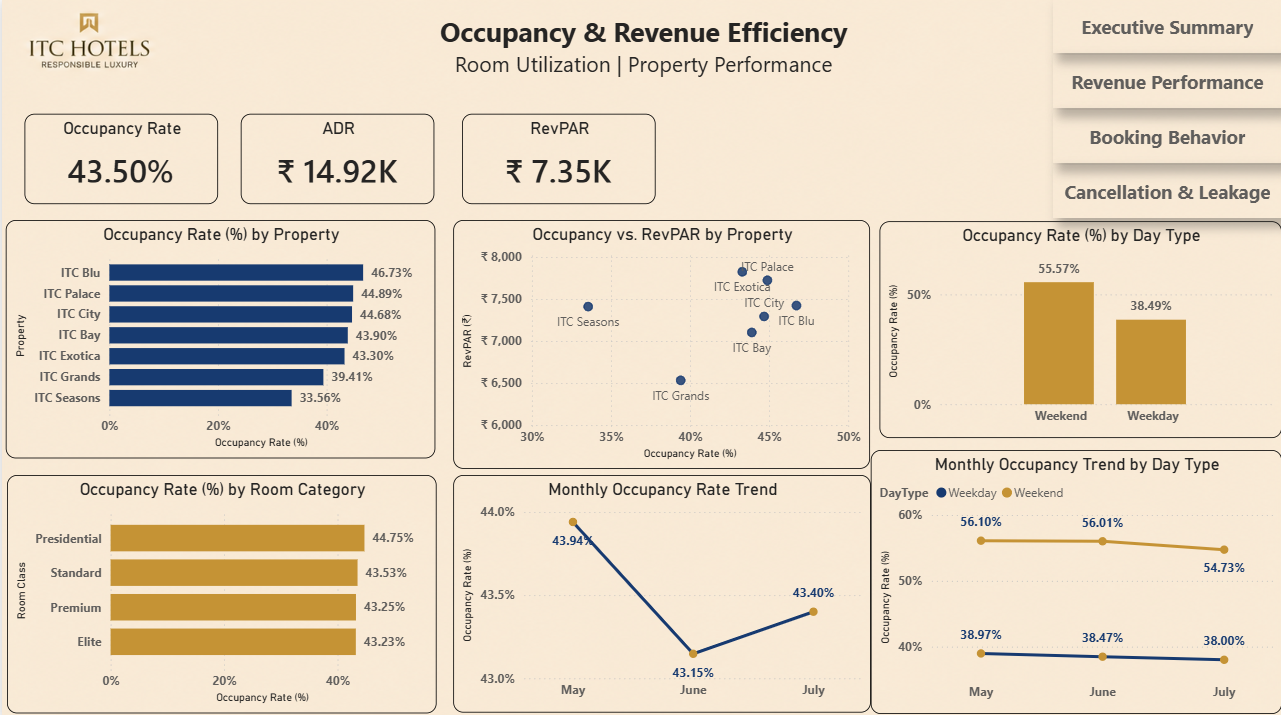

What the dashboard file says about the page in this screenshot:
{"tool":"powerbi","page":{"name":"Occupancy & Revenue Efficiency","canvas":[1280,720],"ordinal":2},"visuals":[{"type":"textbox","box":[344.8,8.6,593.4,75.9],"z":0},{"type":"clusteredBarChart","title":"Occupancy Rate (%) by Property","fields":{"Category":["hotels.Property Name"],"Y":["A measures.Occupancy Rate"]},"box":[3.2,220.5,429.5,238],"z":1000},{"type":"cardVisual","title":"Occupancy Rate","fields":{"Data":["A measures.Occupancy Rate"]},"box":[22.1,114.1,193.9,90.8],"z":2000},{"type":"cardVisual","title":"ADR","fields":{"Data":["A measures.ADR"]},"box":[239.3,114.1,193.9,90.8],"z":3000},{"type":"cardVisual","title":"RevPAR","fields":{"Data":["A measures.RevPAR"]},"box":[460.1,114.1,193.9,90.8],"z":4000},{"type":"clusteredBarChart","title":"Occupancy Rate (%) by Room Category","fields":{"Y":["A measures.Occupancy Rate"],"Category":["rooms.Room Class"]},"box":[4.5,475.5,429.5,238],"z":5000},{"type":"scatterChart","title":"Occupancy vs. RevPAR by Property","fields":{"X":["A measures.Occupancy Rate"],"Y":["A measures.RevPAR"],"Category":["hotels.Property Name"]},"box":[450.7,220.5,417.2,249.1],"z":6000},{"type":"lineChart","title":"Monthly Occupancy Rate Trend","fields":{"Category":["Date Table.Date.Variation.Date Hierarchy.Month"],"Y":["A measures.Occupancy Rate"]},"box":[450.7,475.5,417.5,237.5],"z":7000},{"type":"clusteredColumnChart","title":"Occupancy Rate (%) by Day Type","fields":{"Y":["A measures.Occupancy Rate"],"Category":["Date Table.DayType"]},"box":[877.3,220.9,402.5,217.2],"z":8000},{"type":"lineChart","title":"Monthly Occupancy Trend by Day Type","fields":{"Category":["Date Table.Date.Variation.Date Hierarchy.Month"],"Y":["A measures.Occupancy Rate"],"Series":["Date Table.DayType"]},"box":[868.7,450.3,411.2,263.8],"z":9000},{"type":"actionButton","box":[1051.5,164.4,228.2,52.8],"z":10000},{"type":"actionButton","box":[1051.5,55.2,228.2,52.8],"z":11000},{"type":"actionButton","box":[1051.5,0,228.2,52.8],"z":12000},{"type":"actionButton","box":[1051.5,110.4,228.2,52.8],"z":13000}]}

Visuals, with their boxes in screenshot pixels (x1, y1, x2, y2), scaled from the page's 1280x720 canvas onto the 1281x715 screenshot:
textbox: (x1=345, y1=9, x2=939, y2=84)
"Occupancy Rate (%) by Property" clusteredBarChart: (x1=3, y1=219, x2=433, y2=455)
"Occupancy Rate" cardVisual: (x1=22, y1=113, x2=216, y2=203)
"ADR" cardVisual: (x1=239, y1=113, x2=434, y2=203)
"RevPAR" cardVisual: (x1=460, y1=113, x2=655, y2=203)
"Occupancy Rate (%) by Room Category" clusteredBarChart: (x1=5, y1=472, x2=434, y2=709)
"Occupancy vs. RevPAR by Property" scatterChart: (x1=451, y1=219, x2=869, y2=466)
"Monthly Occupancy Rate Trend" lineChart: (x1=451, y1=472, x2=869, y2=708)
"Occupancy Rate (%) by Day Type" clusteredColumnChart: (x1=878, y1=219, x2=1280, y2=435)
"Monthly Occupancy Trend by Day Type" lineChart: (x1=869, y1=447, x2=1280, y2=709)
actionButton: (x1=1052, y1=163, x2=1280, y2=216)
actionButton: (x1=1052, y1=55, x2=1280, y2=107)
actionButton: (x1=1052, y1=0, x2=1280, y2=52)
actionButton: (x1=1052, y1=110, x2=1280, y2=162)
